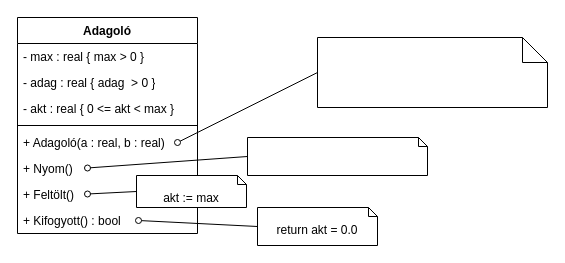
This 565x263 diagram has some shape labels left out. Each missing label, with the box of its shape:
akt := MAX(akt - adag, 0): (246, 136, 428, 176)
if not ( a > 0 and b > 0 ) then error endif max, adag, akt := a, b, 0.0: (316, 36, 548, 108)
